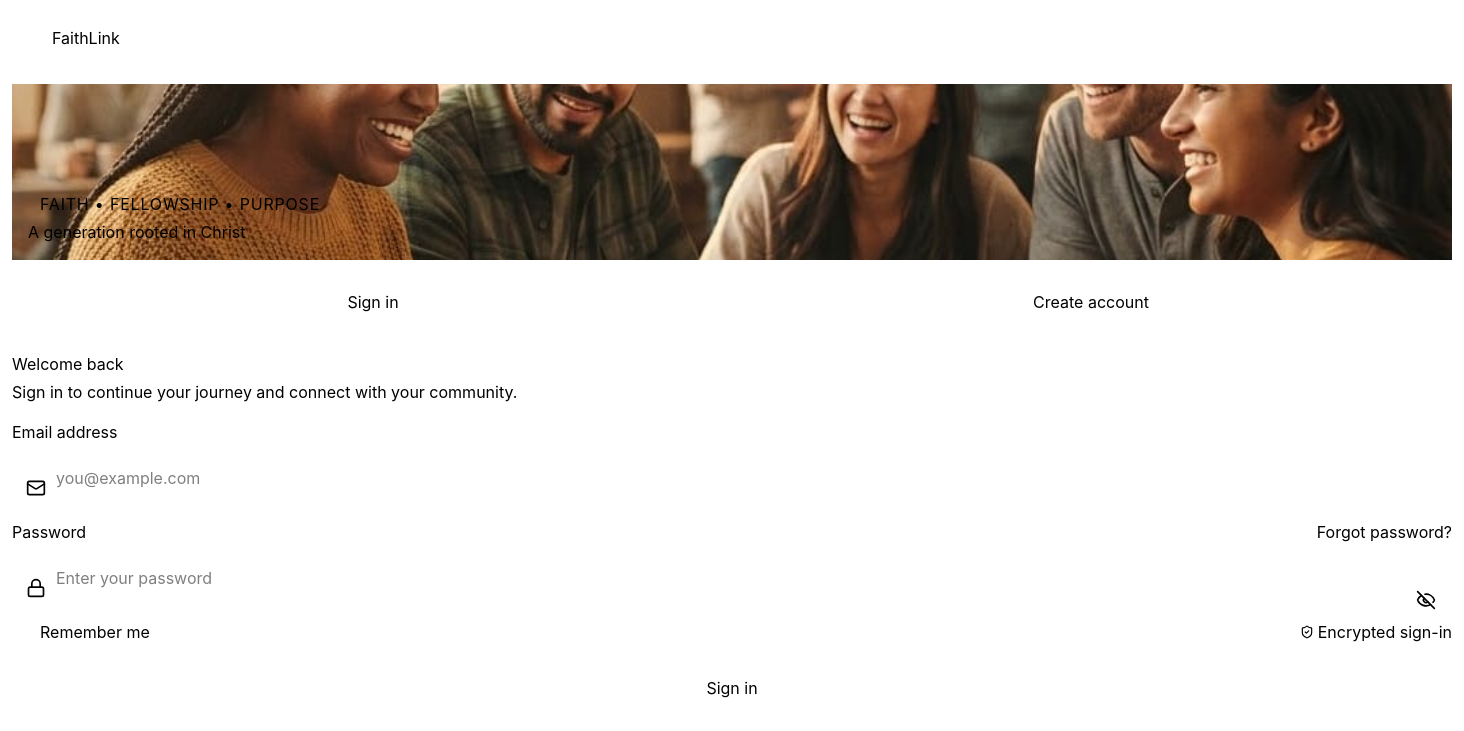
Test case: Sign in page › shows a generic error when something unexpected fails
Type "error@example.com" into the field labelled "Email address". click: (732, 478)
box: [12, 452, 1452, 504]
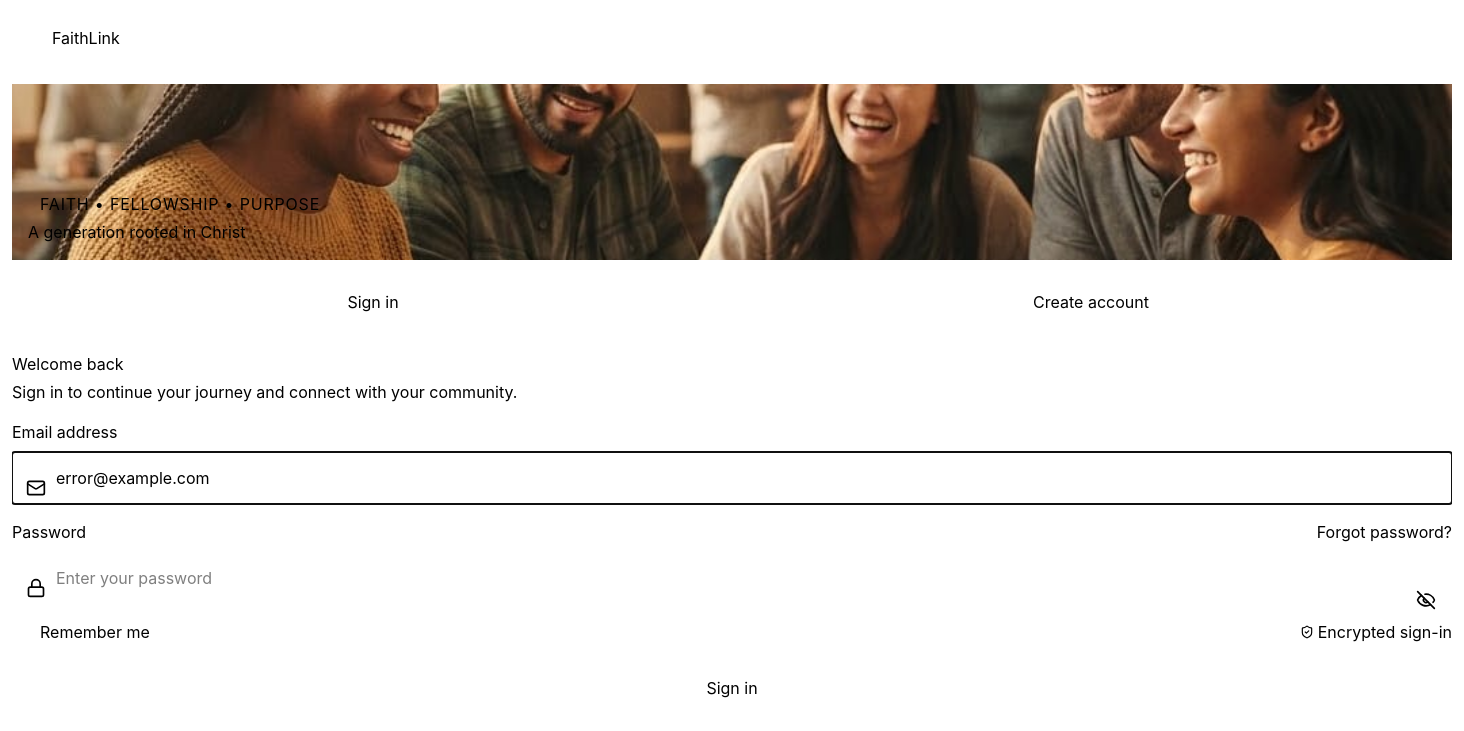
Type "whatever1" into the password field labelled "Password". click: (732, 578)
box: [12, 552, 1452, 604]
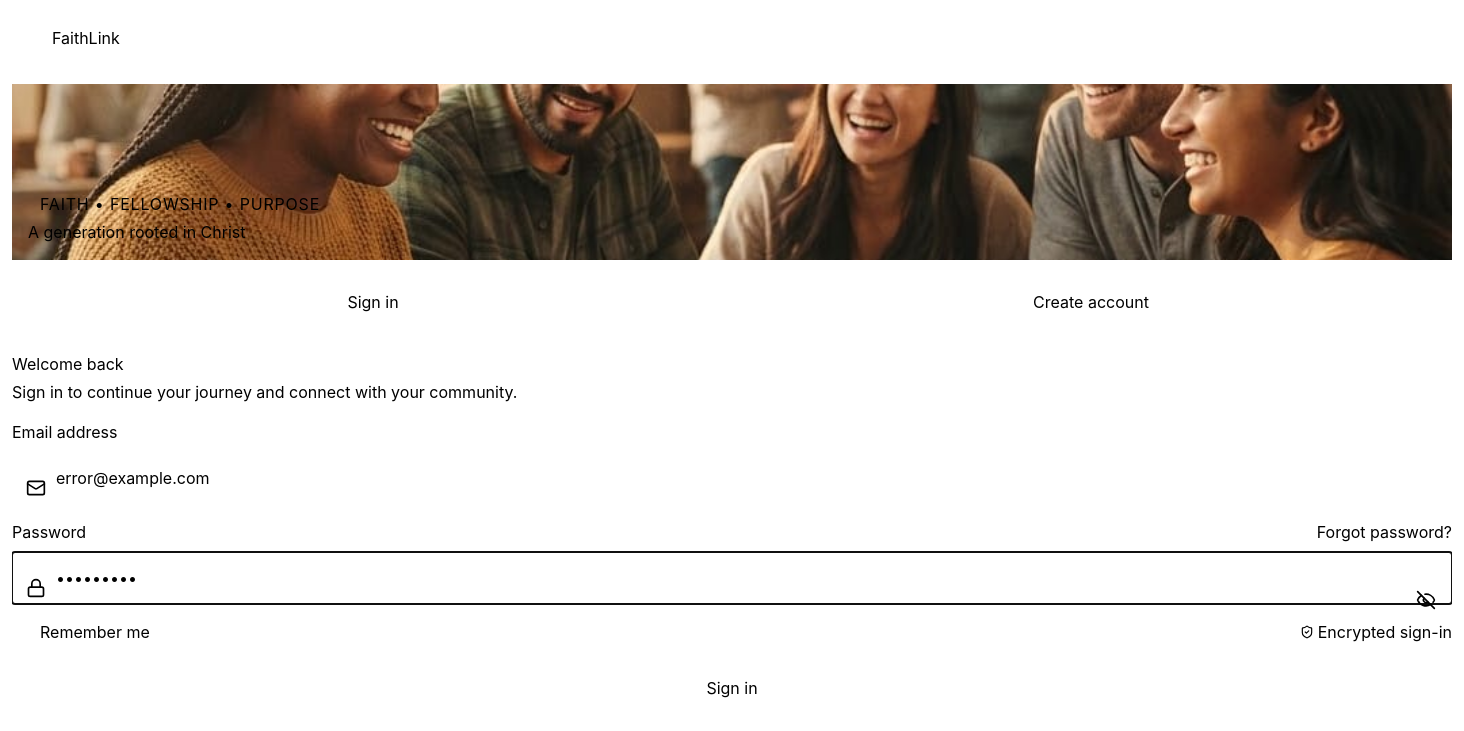
Click the button "Sign in". click: click(732, 688)
box: [12, 664, 1452, 712]
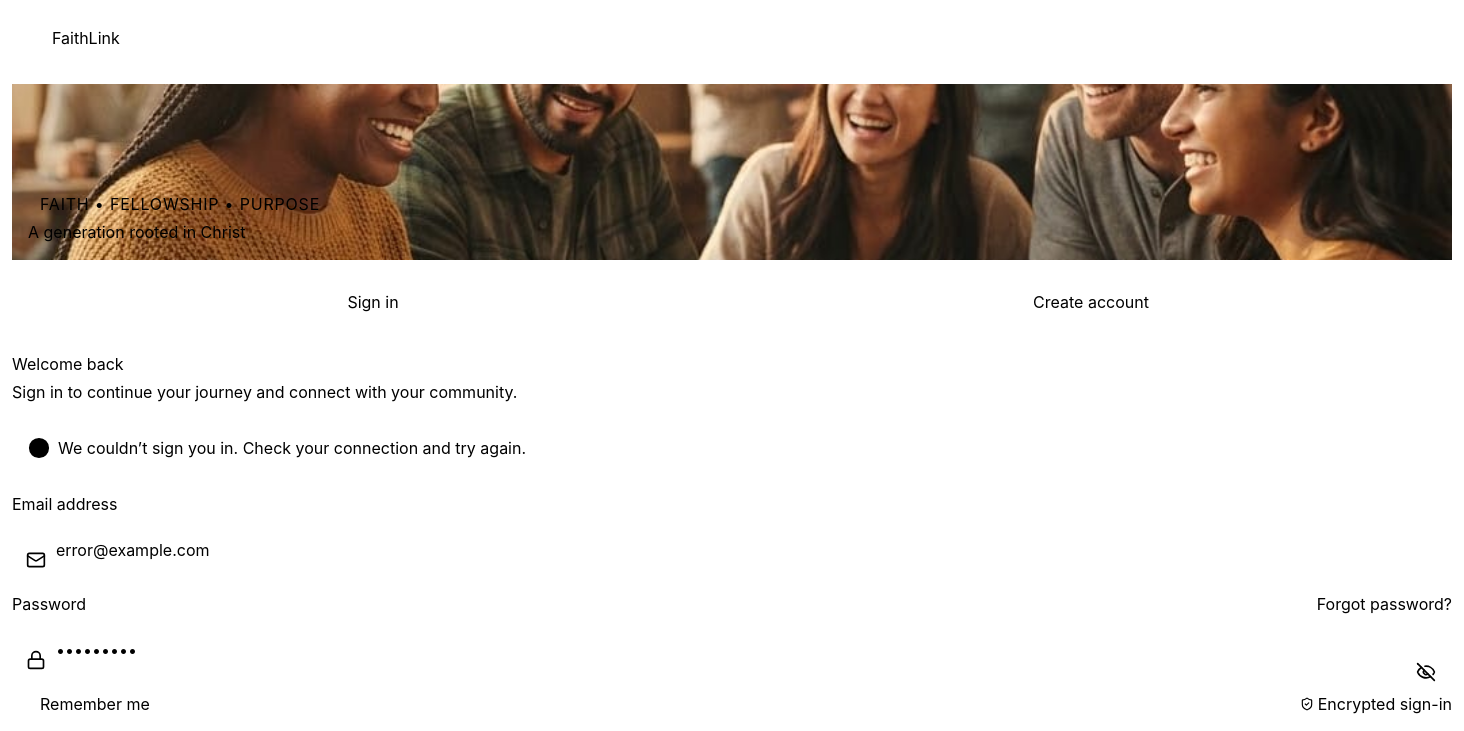
expect the message shows "We couldn’t sign you in": met, box [58, 438, 526, 458]
